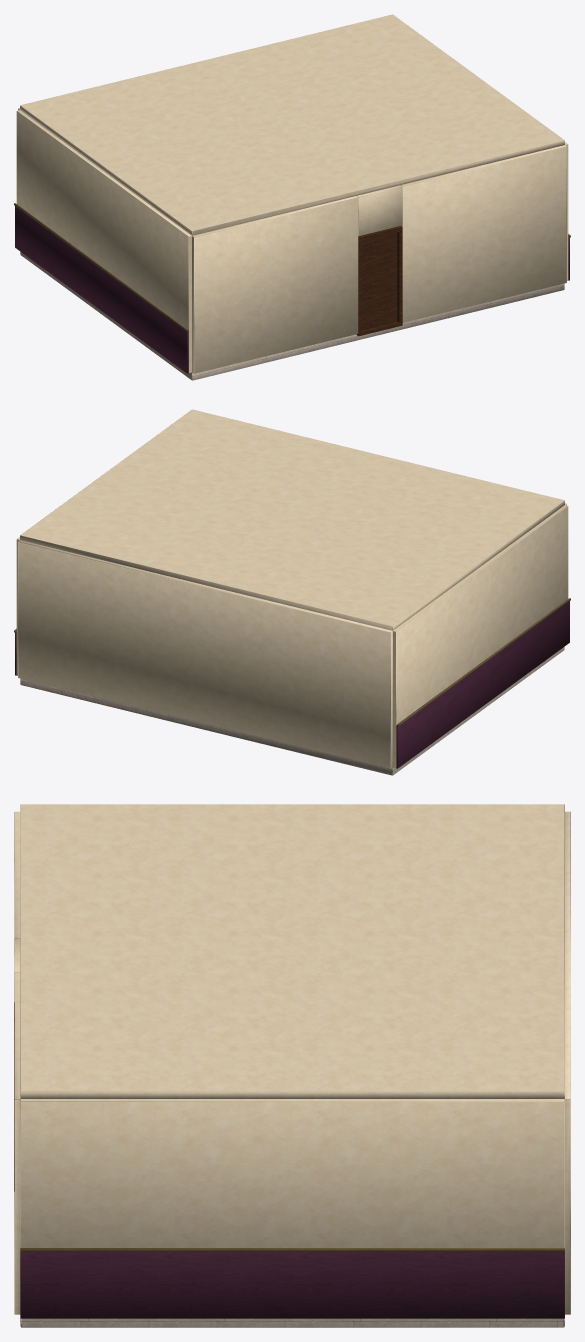
The model's file is explore3d__supply_store.glb.
3 renders of one model, top to bottom at view 1: azimuth 30°, elevation 25°; view 2: azimuth 150°, elevation 25°; view 3: azimuth 270°, elevation 25°, orthographic. The views are drawn at different scales.
Parts seen in each view (by area): view 1: Rebuilt_supply_store; view 2: Rebuilt_supply_store; view 3: Rebuilt_supply_store.
Part boxes in pixels (x1=…): Rebuilt_supply_store: x1=14, y1=14, x2=570, y2=380; Rebuilt_supply_store: x1=14, y1=409, x2=570, y2=775; Rebuilt_supply_store: x1=14, y1=804, x2=570, y2=1327.
Bounding box in the file's own units: 10.32 × 3.84 × 8.19.
13 materials, 12 textured.
